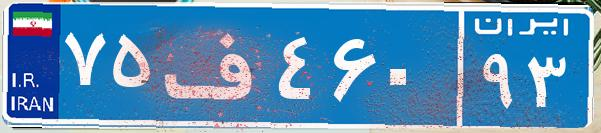0: (385, 28, 445, 110)
3: (525, 38, 570, 115)
4: (273, 28, 330, 110)
5: (110, 28, 158, 105)
6: (330, 28, 385, 110)
7: (57, 26, 110, 107)
9: (475, 38, 525, 113)
ف: (158, 15, 273, 115)
